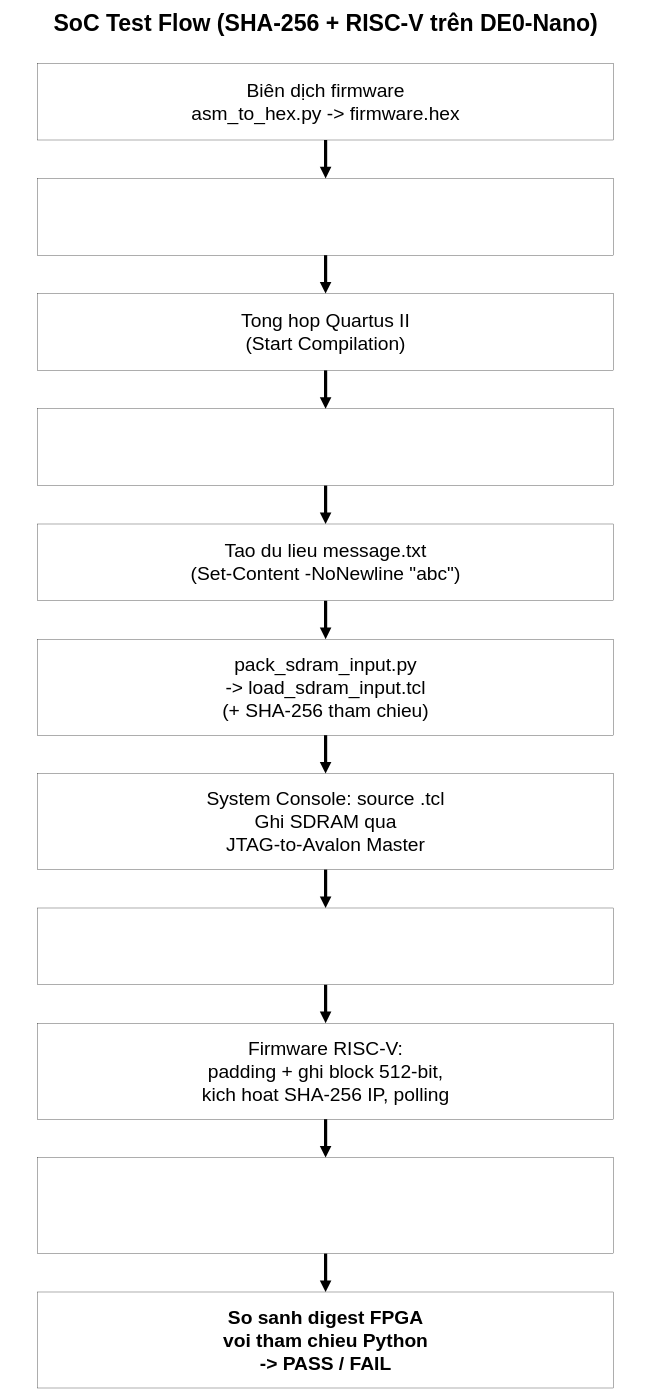
Some shapes in this 651 by 1394 pixel diagram are drawn without their labels. The shapes that lost their labels are listed below. From the top down, each one's centre as x and y in pixels, then its label:
At pixel 325 216: "Copy firmware.hex vao system/synthesis/submodules".
At pixel 325 447: "Nap .sof xuong DE0-Nano (Quartus Programmer, USB-Blaster)".
At pixel 325 946: "Kiem tra magic = 0x53484132 va length".
At pixel 325 1205: "Doc digest 256-bit Xuat qua JTAG UART -> nios2-terminal".
